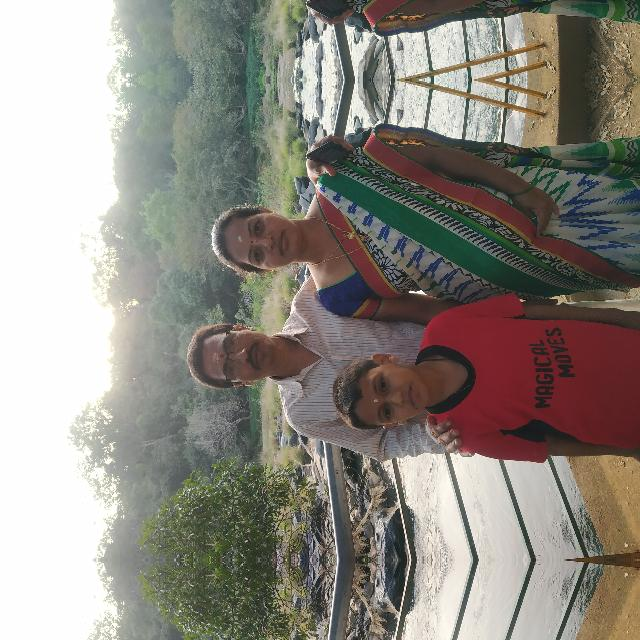person: (255, 268, 430, 640), (255, 400, 430, 640), (85, 400, 256, 640), (85, 410, 256, 640), (138, 239, 256, 457)
